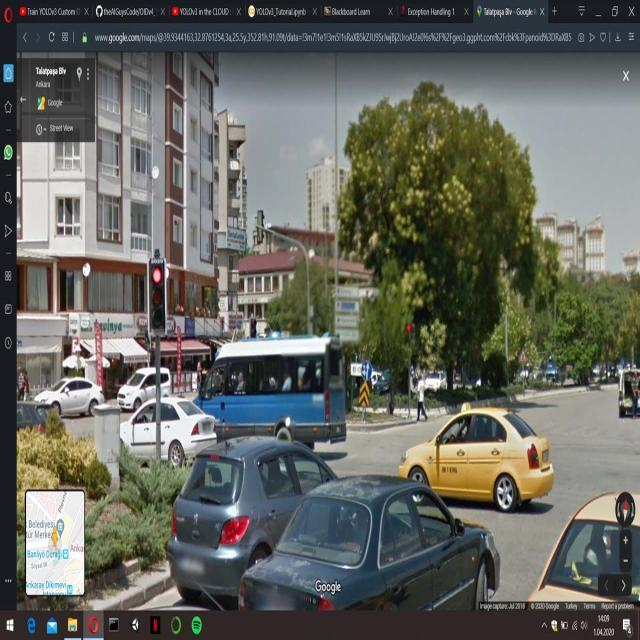ilerisol: (361, 361, 373, 381)
kirmizi: (149, 259, 166, 334)
